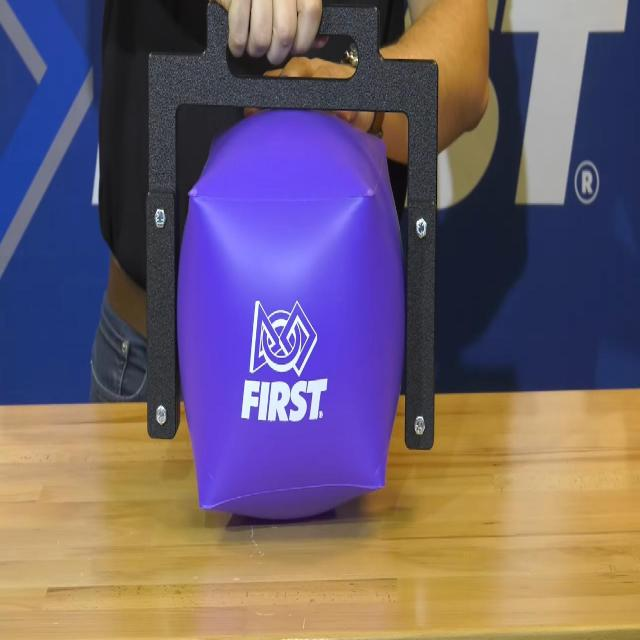frc_cube: (173, 111, 404, 522)
